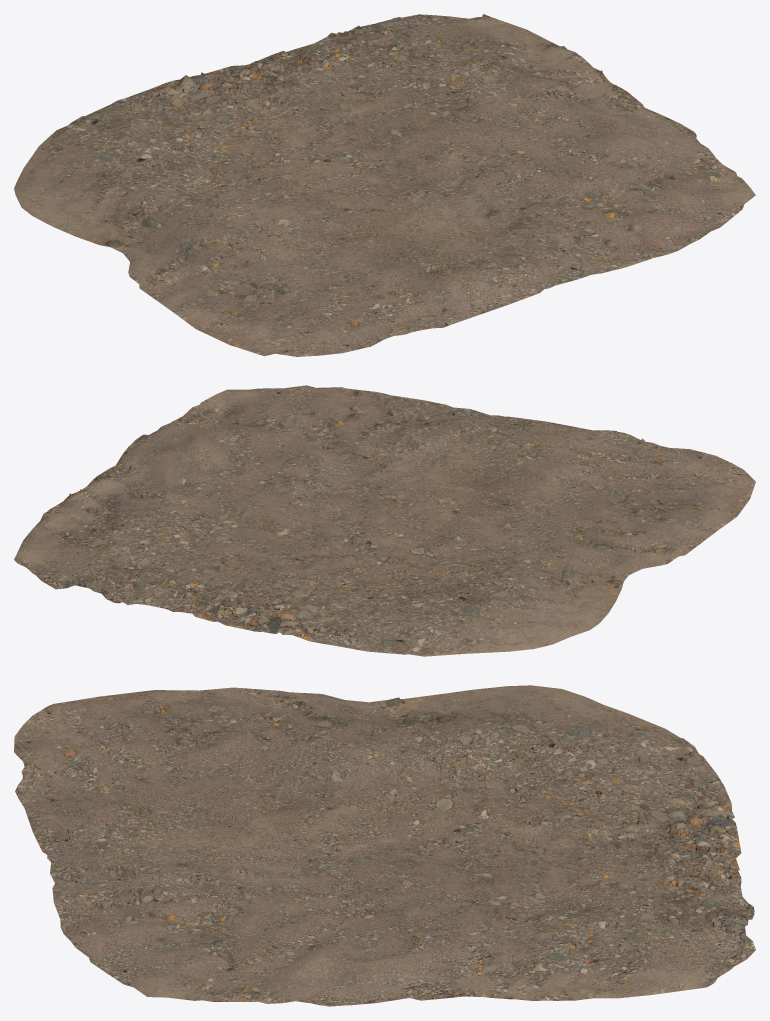
File: qcjrH_tier_2.gltf
3 renders of one model, top to bottom at view 1: azimuth 30°, elevation 25°; view 2: azimuth 150°, elevation 25°; view 3: azimuth 270°, elevation 25°, orthographic. The views are drawn at different scales.
Visible parts, largest first — view 1: qcjrH_LOD0_TIER2_000; view 2: qcjrH_LOD0_TIER2_000; view 3: qcjrH_LOD0_TIER2_000.
Boxes of the visible parts, x1,y1,x2,y2 form: qcjrH_LOD0_TIER2_000: (14, 14, 755, 356); qcjrH_LOD0_TIER2_000: (14, 385, 755, 656); qcjrH_LOD0_TIER2_000: (14, 685, 755, 1006).
Bounding box in the file's own units: 1.38 × 0.0394 × 1.35.
Materials: 1 (1 with a texture image).
